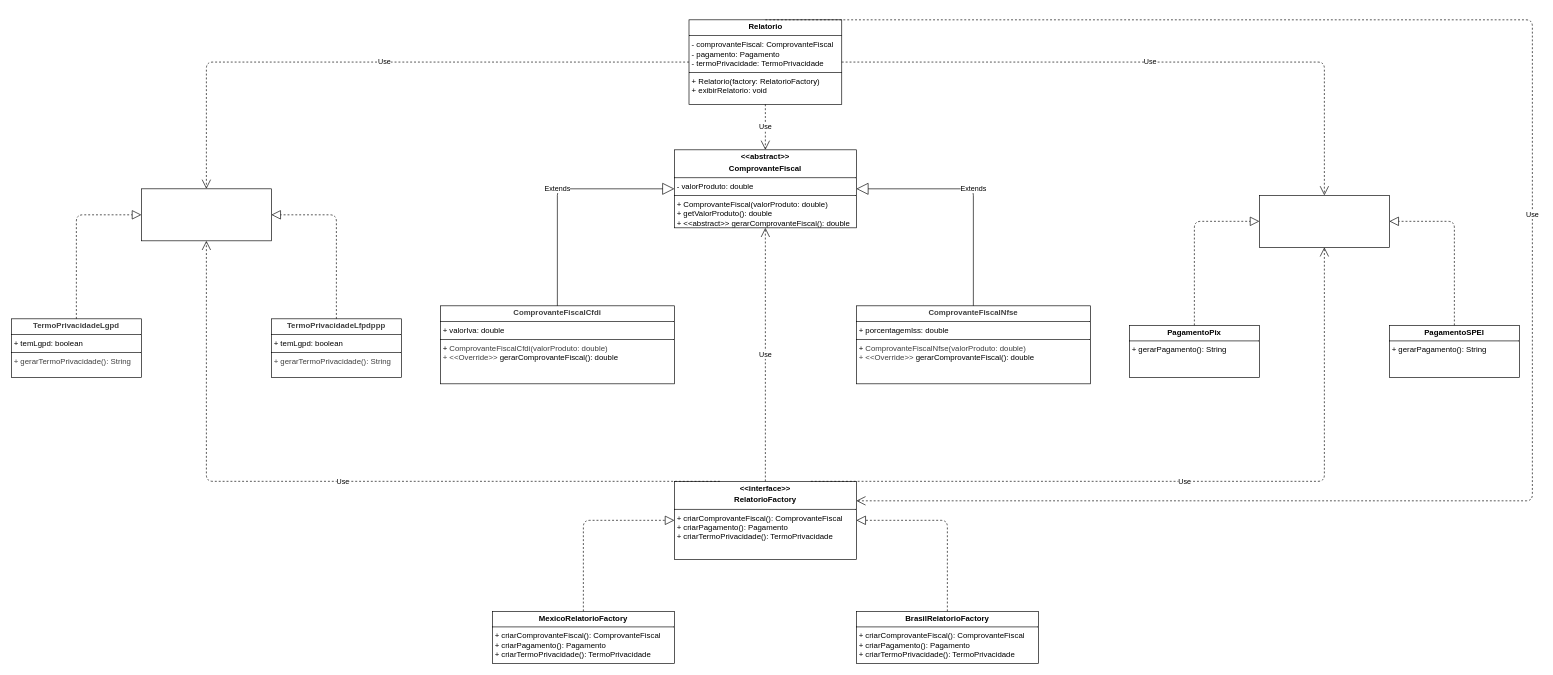
Image size: 1553x675. Some labels were removed from this diagram. The shapes that lost their labels are listed below. From the top down, each one's centre as x and y in pixels, then its label:
At (x=206, y=214): "<<Interface>> TermoPrivacidade + gerarTermoPrivacidade(): String".
At (x=1324, y=221): "<<Interface>> Pagamento + gerarPagamento(): String".
